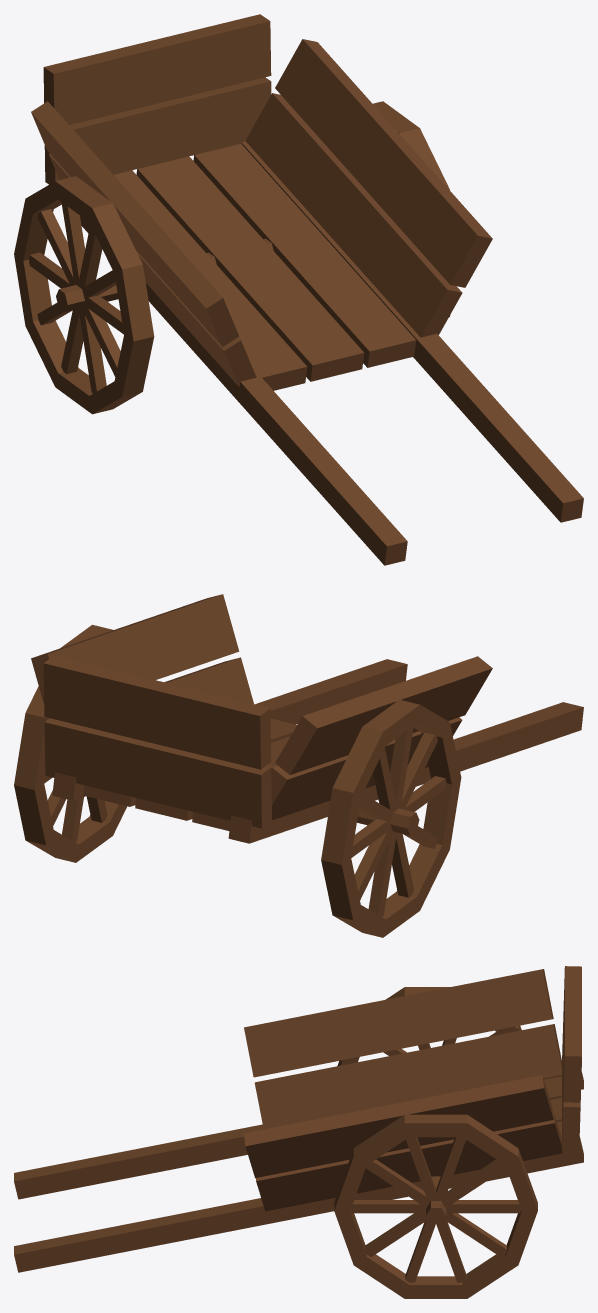
Rendered from Heukarren.fbx.
3 views of the same model, one above another, from view 1: azimuth 30°, elevation 25°; view 2: azimuth 150°, elevation 25°; view 3: azimuth 270°, elevation 25° (orthographic). The views are drawn at different scales.
Visible parts, largest first — view 1: Cube.001, Cube, Cube.002, Cube.003, Cylinder.001, Cube.004, Cylinder; view 2: Cube.002, Cube.001, Cylinder.001, Cube.003, Cube.004, Cube, Cylinder; view 3: Cube.001, Cube.003, Cylinder.001, Cube.004, Cube.002, Cube, Cylinder.
Boxes of the visible parts, x1,y1,x2,y2 form: Cube.001: [31, 39, 492, 387]; Cube: [114, 144, 416, 390]; Cube.002: [43, 14, 271, 184]; Cube.003: [80, 141, 583, 565]; Cylinder.001: [14, 101, 450, 414]; Cube.004: [29, 202, 123, 393]; Cylinder: [56, 238, 273, 311]; Cube.002: [43, 655, 271, 828]; Cube.001: [31, 594, 492, 820]; Cylinder.001: [14, 624, 461, 937]; Cube.003: [52, 659, 583, 843]; Cube.004: [44, 725, 446, 916]; Cube: [83, 718, 296, 830]; Cylinder: [357, 808, 419, 835]; Cube.001: [244, 969, 563, 1211]; Cube.003: [14, 1072, 583, 1272]; Cylinder.001: [334, 987, 537, 1298]; Cube.004: [351, 1032, 521, 1282]; Cube.002: [562, 966, 581, 1153]; Cube: [544, 1076, 561, 1137]; Cylinder: [426, 1176, 446, 1223].
Size of the model in its own units: 339 by 239 by 560.
